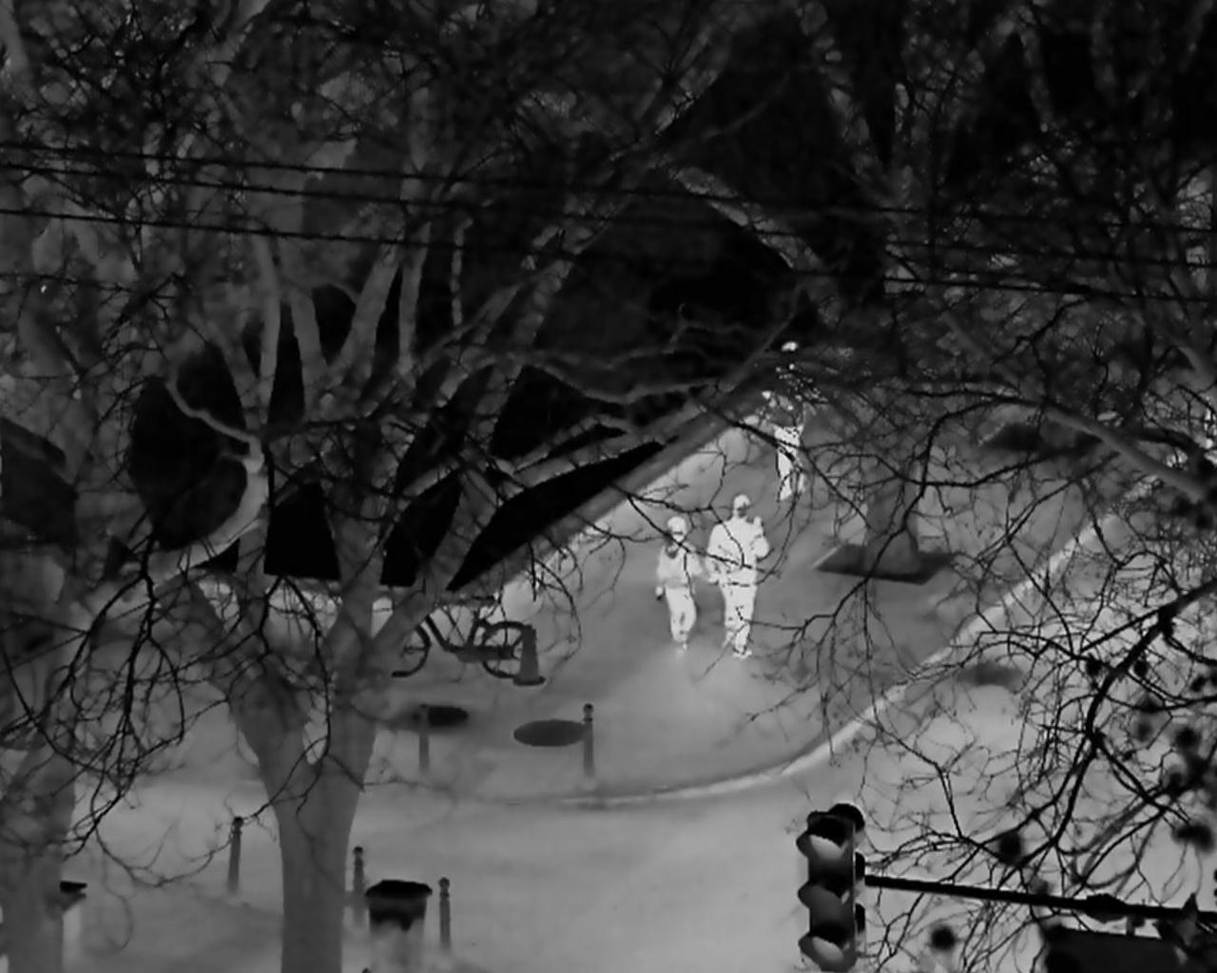person: (705, 492, 768, 660), (763, 341, 813, 502), (653, 516, 703, 652)
